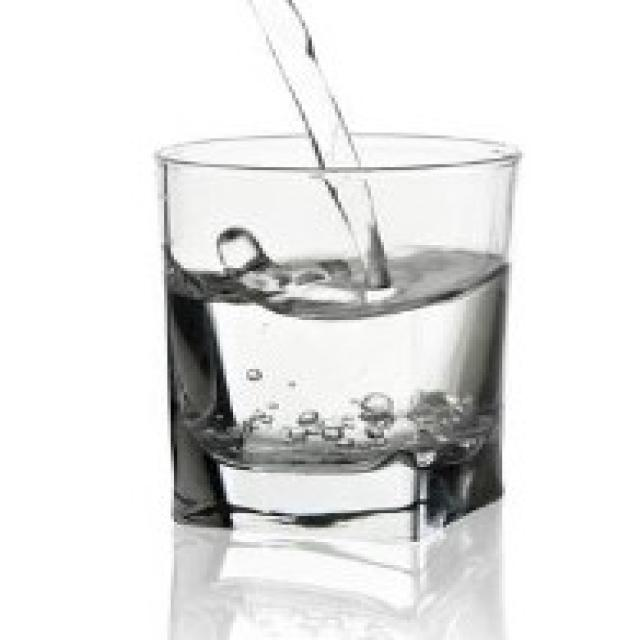electronic: (154, 124, 516, 565)
